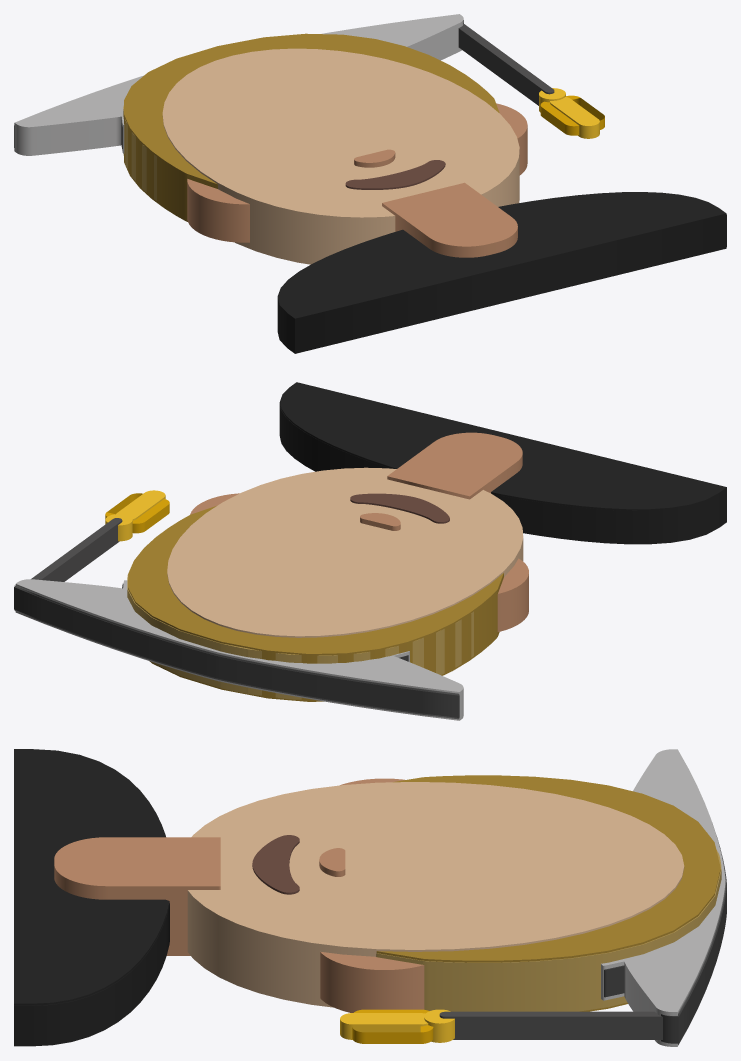
Rendered from emoji_u1f468_1f3fc_200d_1f393.glb.
3 views of the same model, one above another, from view 1: azimuth 30°, elevation 25°; view 2: azimuth 150°, elevation 25°; view 3: azimuth 270°, elevation 25° (orthographic). The views are drawn at different scales.
Parts seen in each view (by area): view 1: emoji_u1f468_1f3fc_200d_1f393; view 2: emoji_u1f468_1f3fc_200d_1f393; view 3: emoji_u1f468_1f3fc_200d_1f393.
Boxes of the visible parts, x1,y1,x2,y2 form: emoji_u1f468_1f3fc_200d_1f393: (14, 14, 726, 353); emoji_u1f468_1f3fc_200d_1f393: (14, 382, 726, 720); emoji_u1f468_1f3fc_200d_1f393: (14, 749, 726, 1046).
Bounding box in the file's own units: 0.0301 × 0.0038 × 0.0334.
